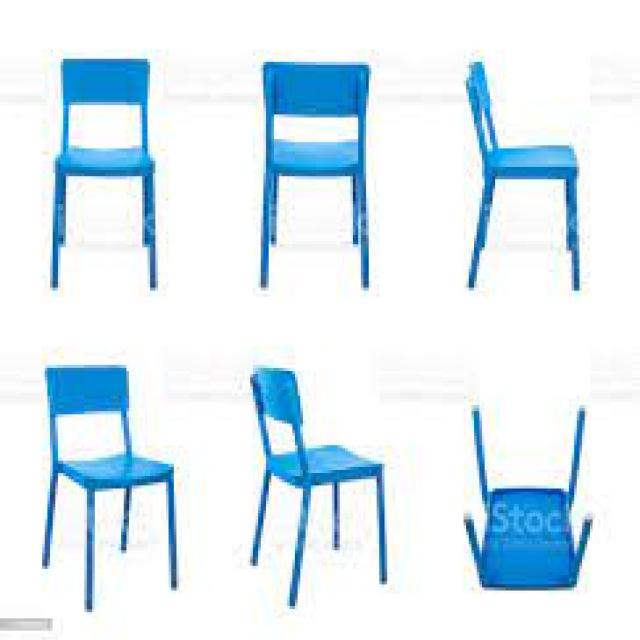chair: (238, 362, 429, 620), (438, 44, 602, 323), (236, 52, 404, 312), (40, 45, 188, 309), (464, 383, 598, 640)
